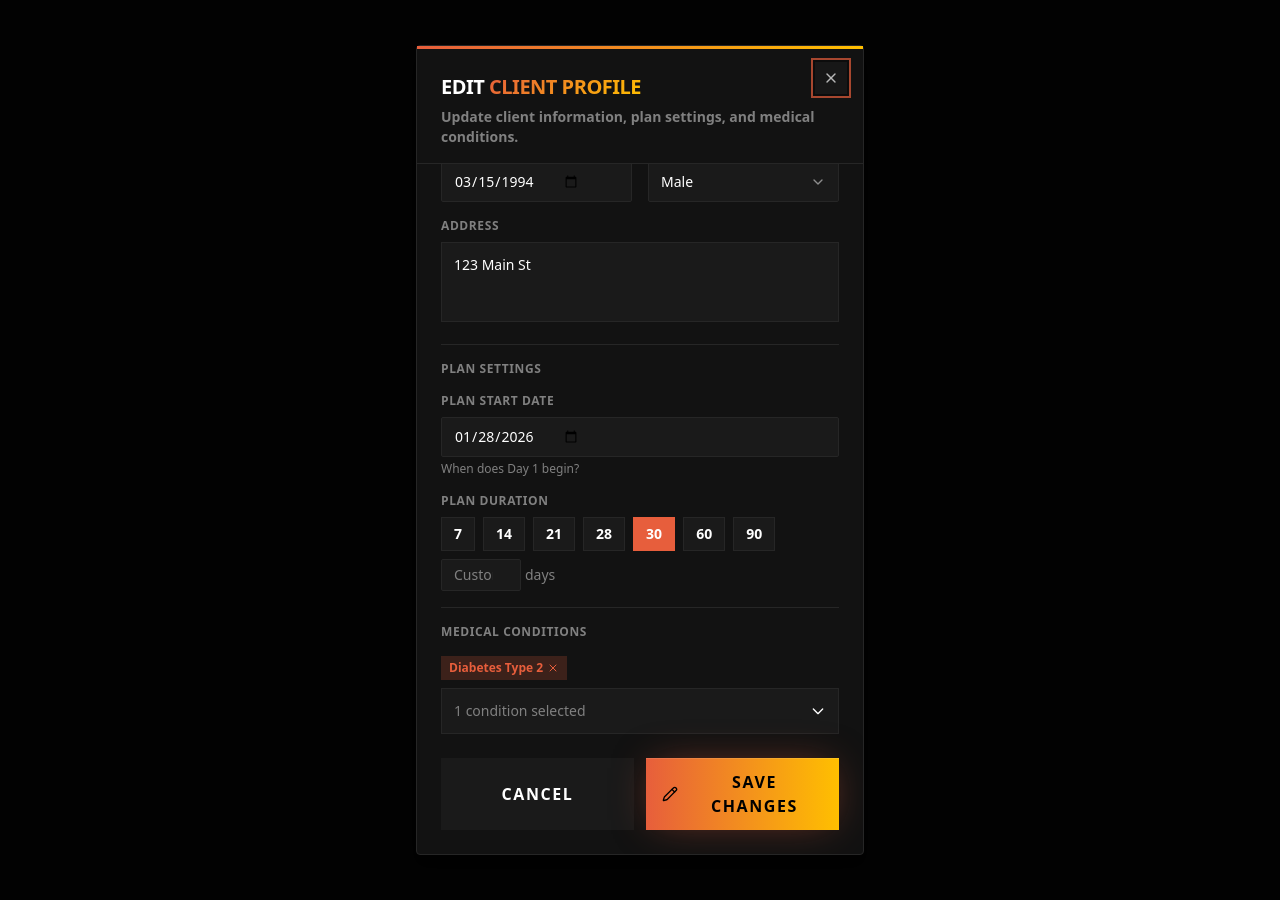
Test: EditClientModal Component › Medical Conditions Management › shows conditions dropdown when clicked
The width and height of the screenshot is (1280, 900).
(page scrolled)
Note: Click on the dropdown button
Click the button "1 condition selected" at (520, 710), box [441,688,839,734]
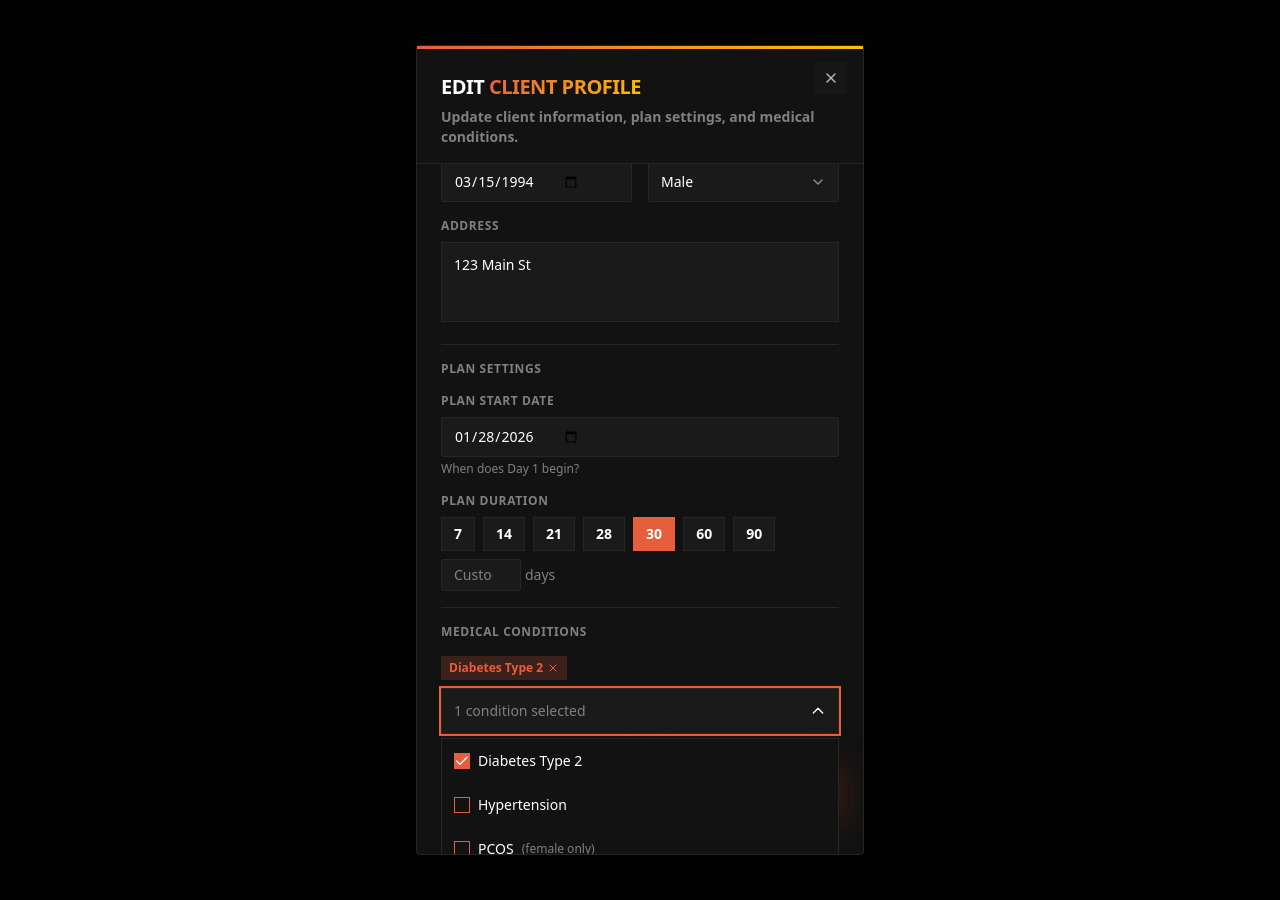
Expected: the text "Hypertension" is shown, [478,795,567,815]
Expected: the text "PCOS" is shown, [478,839,514,854]
